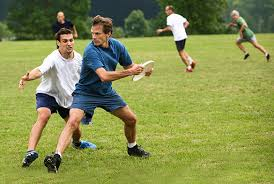disc: (131, 60, 155, 81)
